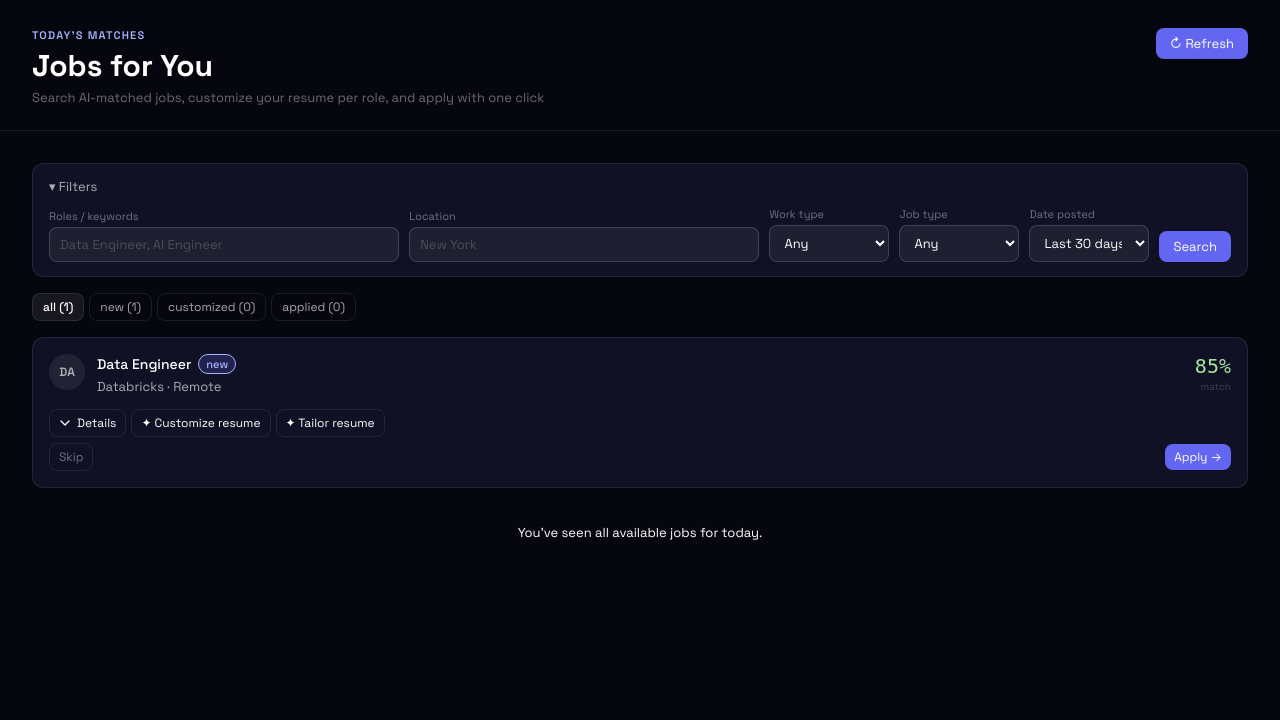
it: TailorModal › shows error message and Try again button on failure
Click the button "✦ Tailor resume": (330, 423) [276,409,385,437]
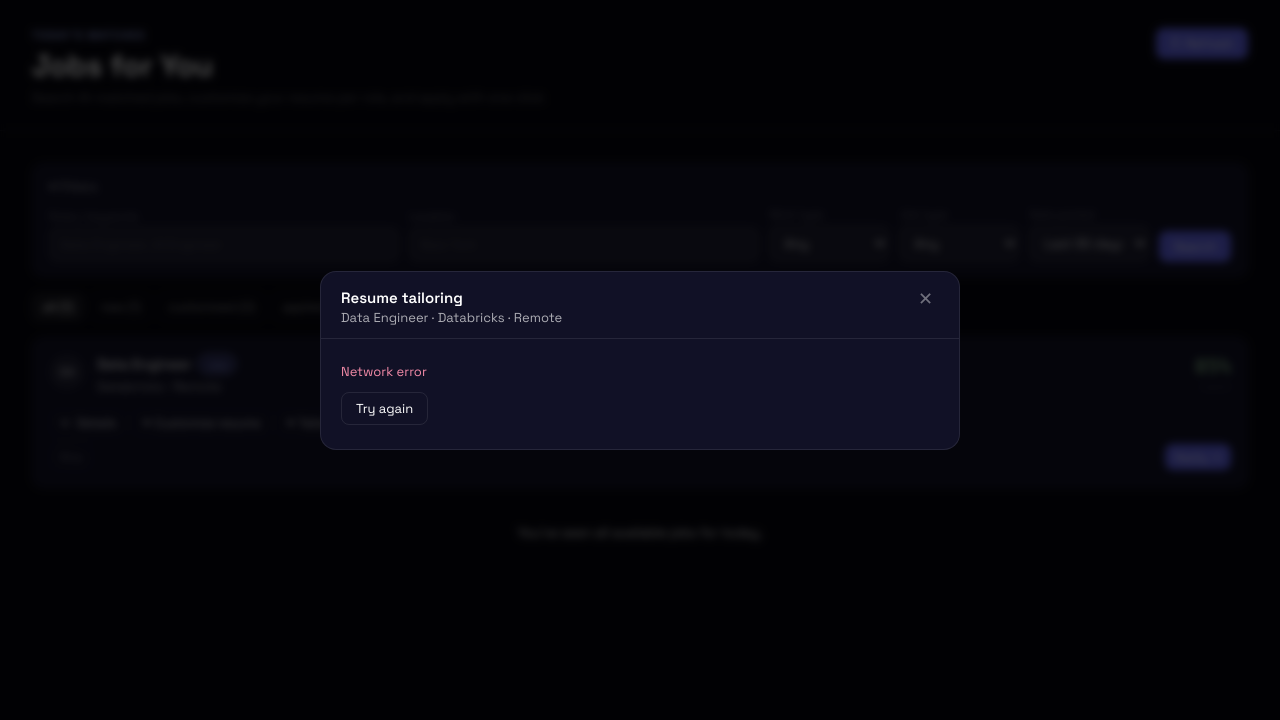
Expected: the button "Try again" is shown, [341,392,428,424]
Expected: the text "Network error" is shown, [341,362,427,380]
